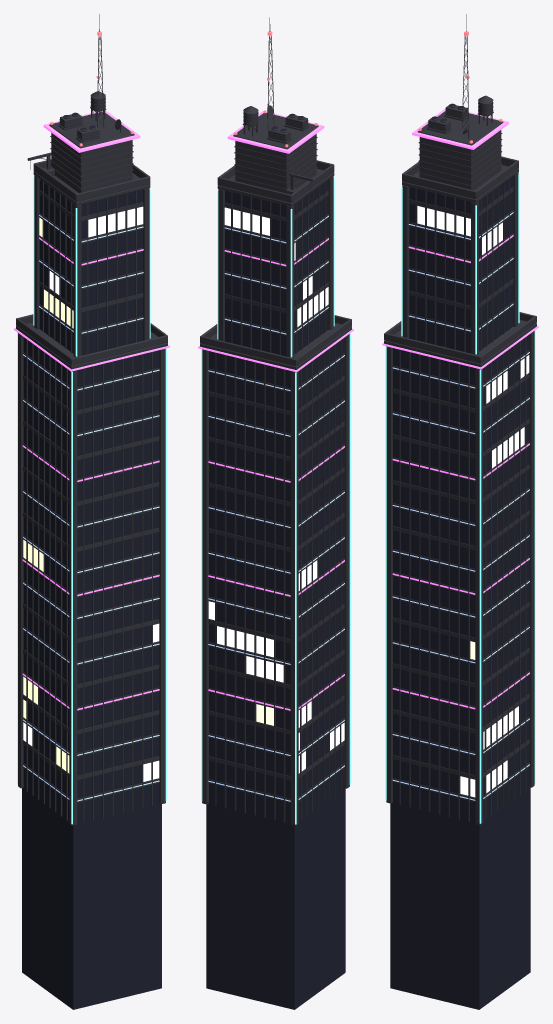
Rendered from tower_a.glb.
3 views of the same model, side by side, from view 1: azimuth 30°, elevation 25°; view 2: azimuth 150°, elevation 25°; view 3: azimuth 330°, elevation 25° (orthographic).
Parts seen in each view (by area): view 1: tower_a; view 2: tower_a; view 3: tower_a.
Boxes of the visible parts, box(x1,y1,x2,y2) form: tower_a: box(14, 14, 169, 1009); tower_a: box(198, 17, 353, 1009); tower_a: box(382, 14, 538, 1009).
Size of the model in its own units: 14.65 by 135 by 14.5.
